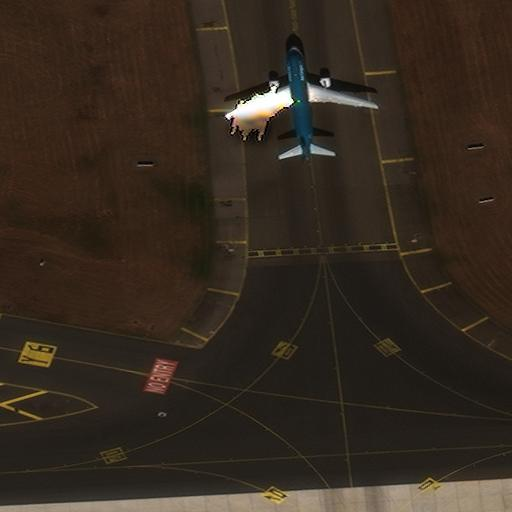Medium Civil Transport: (225, 45, 374, 160)
